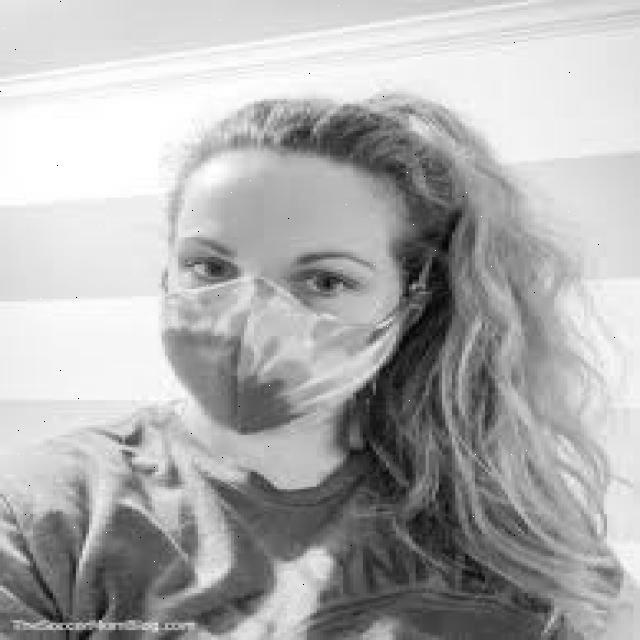fake: (151, 285, 406, 462)
real: (159, 151, 407, 444)
